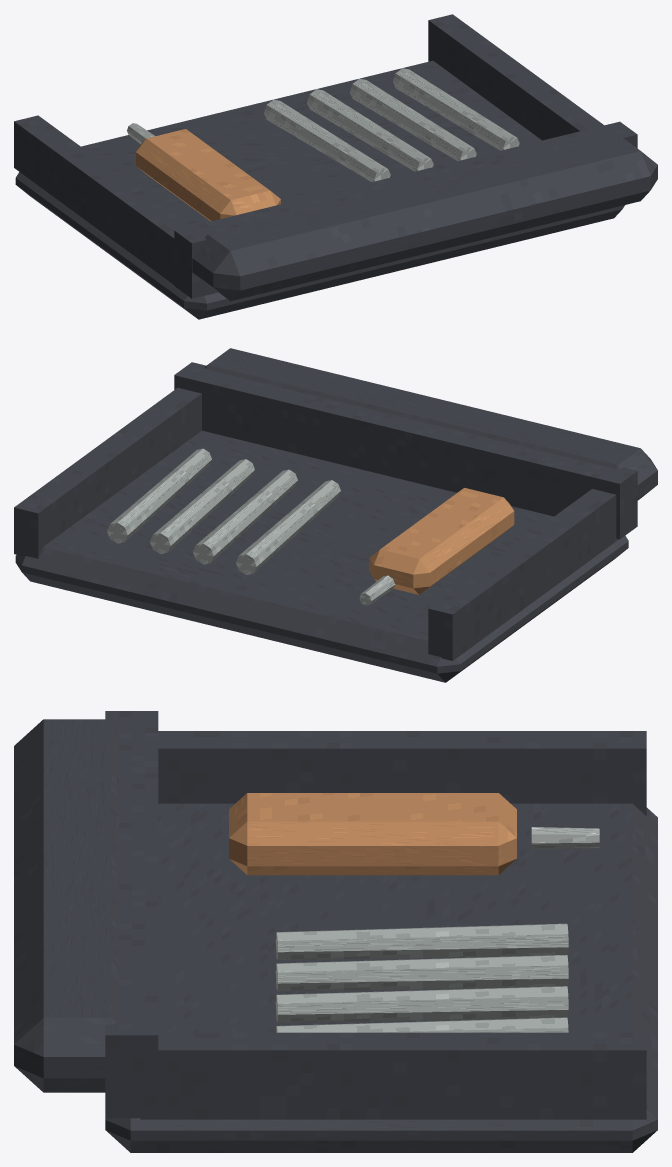
File: misc_repairkit.glb
The picture shows the model from 3 angles, top to bottom: view 1: azimuth 30°, elevation 25°; view 2: azimuth 150°, elevation 25°; view 3: azimuth 270°, elevation 25°; orthographic projection. The views are drawn at different scales.
Parts seen in each view (by area): view 1: block_hinged lid, block_opened carrying case, block_end rim (×2), block_narrow repair tool (×4), block_back rim, block_precision tool grip; view 2: block_opened carrying case, block_back rim, block_end rim (×2), block_hinged lid, block_narrow repair tool (×4), block_precision tool grip, block_closed tool tip; view 3: block_opened carrying case, block_end rim (×2), block_hinged lid, block_narrow repair tool (×4), block_precision tool grip, block_back rim, block_closed tool tip.
Part boxes in pixels (x1=…): block_hinged lid: x1=192, y1=134, x2=657, y2=301; block_opened carrying case: x1=15, y1=60, x2=624, y2=319; block_end rim (×2): x1=14, y1=14, x2=603, y2=284; block_narrow repair tool (×4): x1=264, y1=68, x2=519, y2=181; block_back rim: x1=174, y1=121, x2=637, y2=298; block_precision tool grip: x1=136, y1=129, x2=280, y2=221; block_opened carrying case: x1=15, y1=430, x2=628, y2=682; block_back rim: x1=174, y1=362, x2=637, y2=539; block_end rim (×2): x1=14, y1=387, x2=618, y2=660; block_hinged lid: x1=204, y1=348, x2=657, y2=500; block_narrow repair tool (×4): x1=107, y1=448, x2=340, y2=574; block_precision tool grip: x1=369, y1=488, x2=514, y2=594; block_closed tool tip: x1=359, y1=575, x2=394, y2=605; block_opened carrying case: x1=105, y1=803, x2=657, y2=1152; block_end rim (×2): x1=140, y1=731, x2=646, y2=1119; block_hinged lid: x1=14, y1=719, x2=116, y2=1092; block_narrow repair tool (×4): x1=275, y1=923, x2=568, y2=1032; block_precision tool grip: x1=229, y1=793, x2=516, y2=875; block_back rim: x1=105, y1=711, x2=158, y2=1118; block_closed tool tip: x1=531, y1=827, x2=599, y2=849.
Bounding box in the file's own units: 0.46 × 0.0881 × 0.3859.
1 material, 1 textured.
